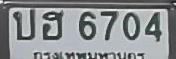0: (122, 11, 139, 39)
4: (144, 11, 161, 41)
6: (78, 10, 95, 39)
7: (100, 10, 117, 40)
A26: (12, 8, 35, 40)
A44: (41, 9, 63, 39)
